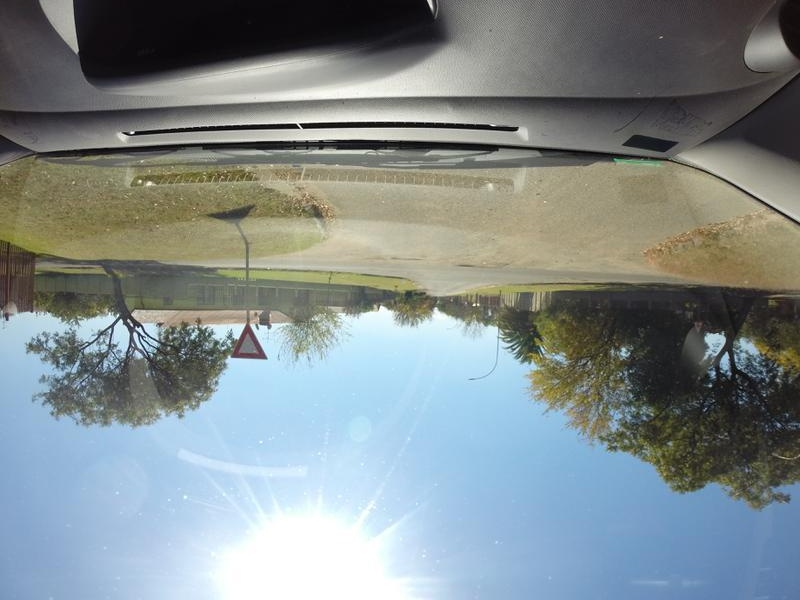pothole: (455, 262, 501, 267), (393, 258, 429, 263)
